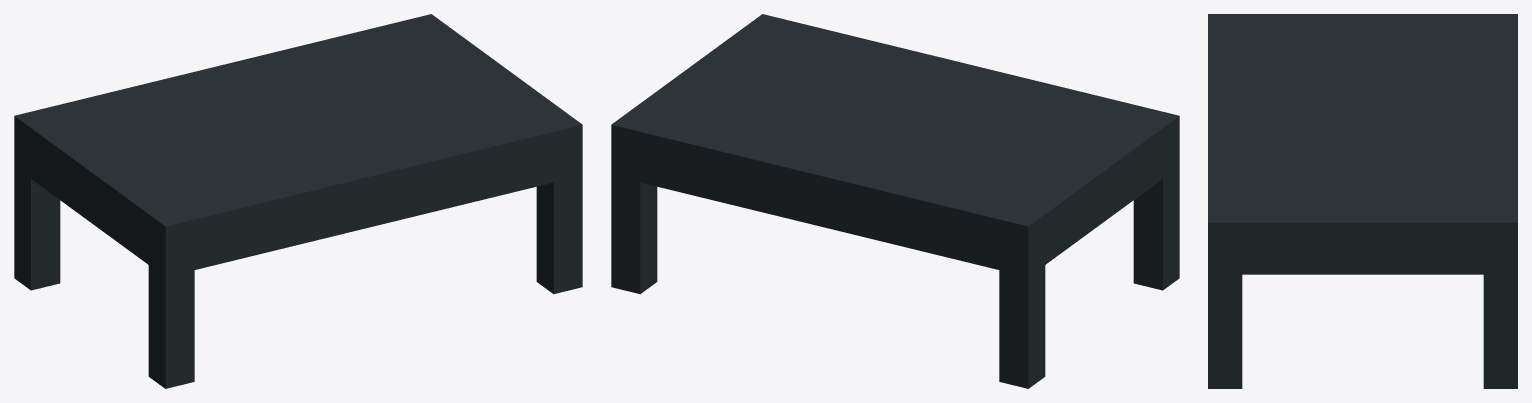
Rendered from table3.fbx.
3 views of the same model, side by side, from view 1: azimuth 30°, elevation 25°; view 2: azimuth 150°, elevation 25°; view 3: azimuth 270°, elevation 25° (orthographic). The views are drawn at different scales.
Visible parts, largest first — view 1: Cube; view 2: Cube; view 3: Cube.
Boxes of the visible parts, x1,y1,x2,y2 form: Cube: (14, 14, 582, 388); Cube: (611, 14, 1179, 388); Cube: (1208, 14, 1517, 388).
Bounding box in the file's own units: 430 × 160 × 270.
